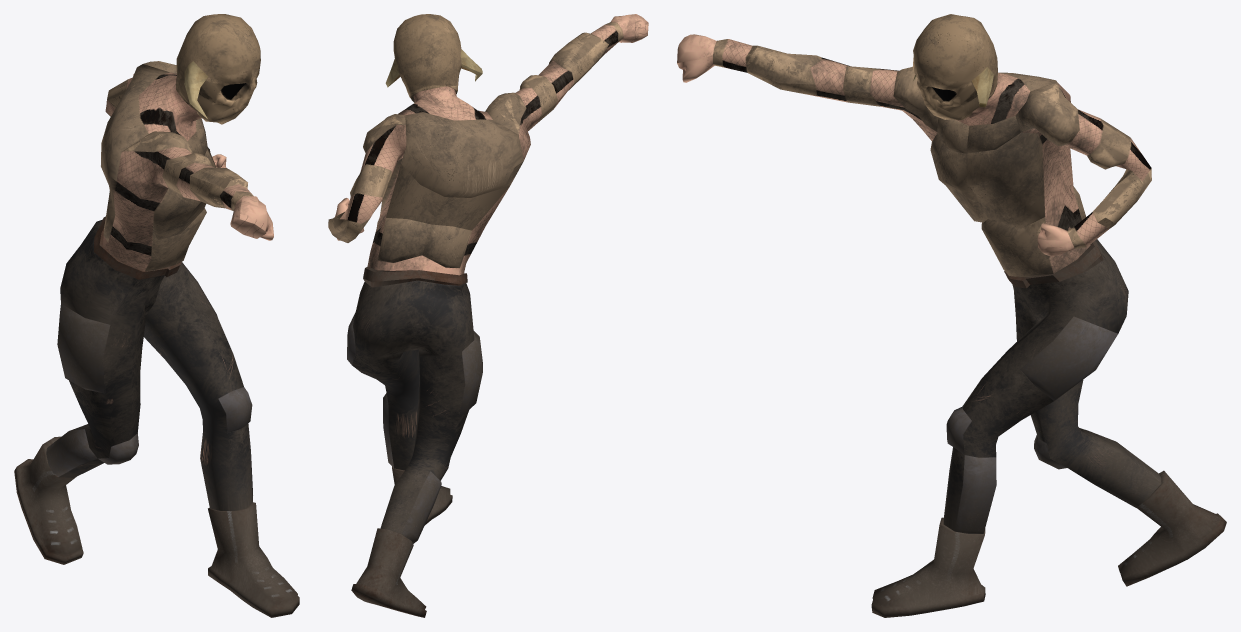
The model's file is Anim_ataque_d1_npc1.0022.obj.
3 views of the same model, side by side, from view 1: azimuth 30°, elevation 25°; view 2: azimuth 150°, elevation 25°; view 3: azimuth 270°, elevation 25° (orthographic). The views are drawn at different scales.
Parts seen in each view (by area): view 1: NPC2; view 2: NPC2; view 3: NPC2.
Boxes of the visible parts, x1=… form: NPC2: x1=14, y1=14, x2=299, y2=617; NPC2: x1=328, y1=14, x2=648, y2=617; NPC2: x1=677, y1=14, x2=1226, y2=617.
Bounding box in the file's own units: 2.66 × 8.75 × 7.31.
